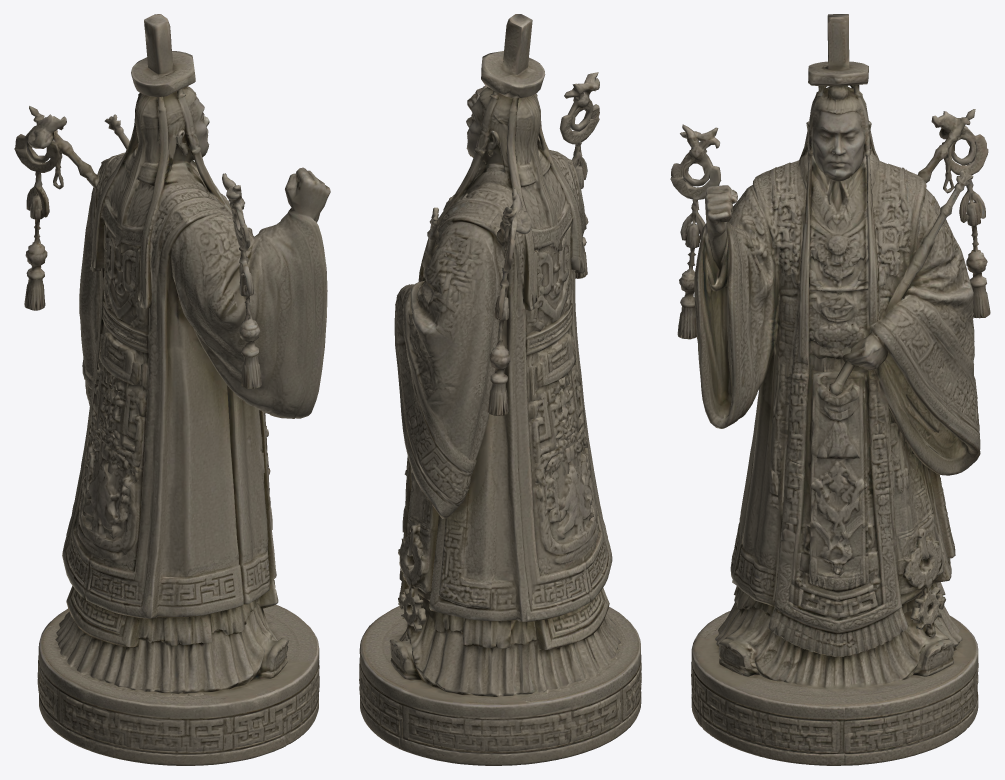
Rendered from ancient_chinese_statue_3d_model_1.fbx.
The picture shows the model from 3 angles, left to right: view 1: azimuth 30°, elevation 25°; view 2: azimuth 150°, elevation 25°; view 3: azimuth 270°, elevation 25°; orthographic projection.
Visible parts, largest first — view 1: tripo_node_3b0c527c; view 2: tripo_node_3b0c527c; view 3: tripo_node_3b0c527c.
Part boxes in pixels (x1,y1,x2,y2): tripo_node_3b0c527c: (14, 14, 330, 765); tripo_node_3b0c527c: (359, 14, 641, 765); tripo_node_3b0c527c: (670, 14, 990, 765).
Bounding box in the file's own units: 0.3583 × 0.9787 × 0.4146.
